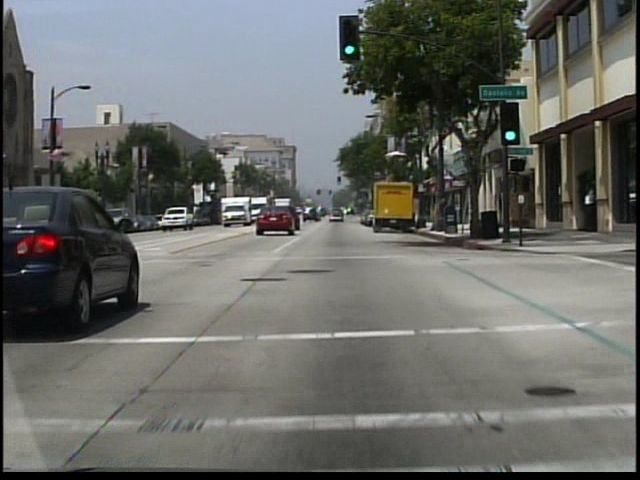person: (583, 189, 596, 232)
